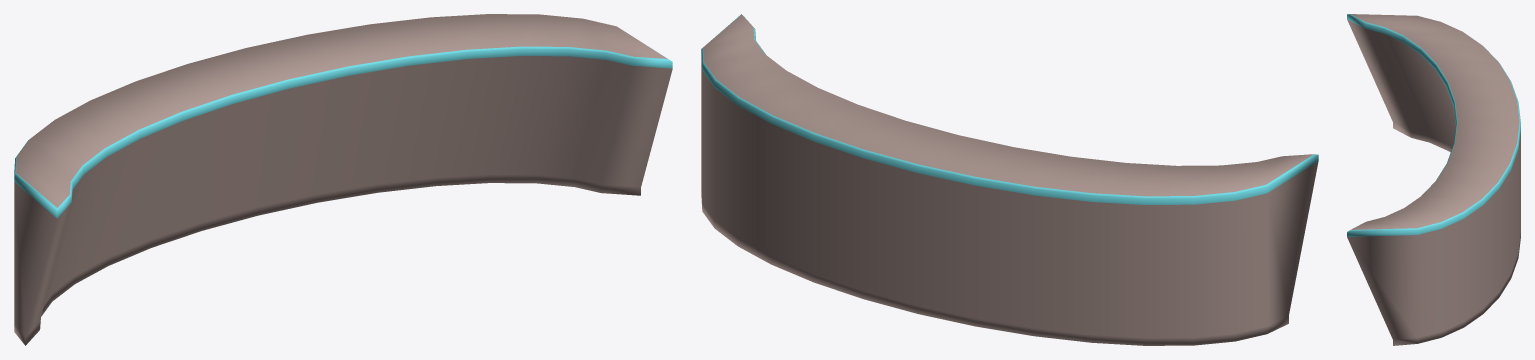
Rendered from dj_table.fbx.
3 views of the same model, side by side, from view 1: azimuth 30°, elevation 25°; view 2: azimuth 150°, elevation 25°; view 3: azimuth 270°, elevation 25° (orthographic). The views are drawn at different scales.
Parts seen in each view (by area): view 1: dj_table; view 2: dj_table; view 3: dj_table.
Part boxes in pixels (bbox=[...]): dj_table: bbox=[14, 14, 672, 345]; dj_table: bbox=[701, 14, 1318, 345]; dj_table: bbox=[1347, 14, 1520, 345].
Size of the model in its own units: 402 by 99.18 by 136.
